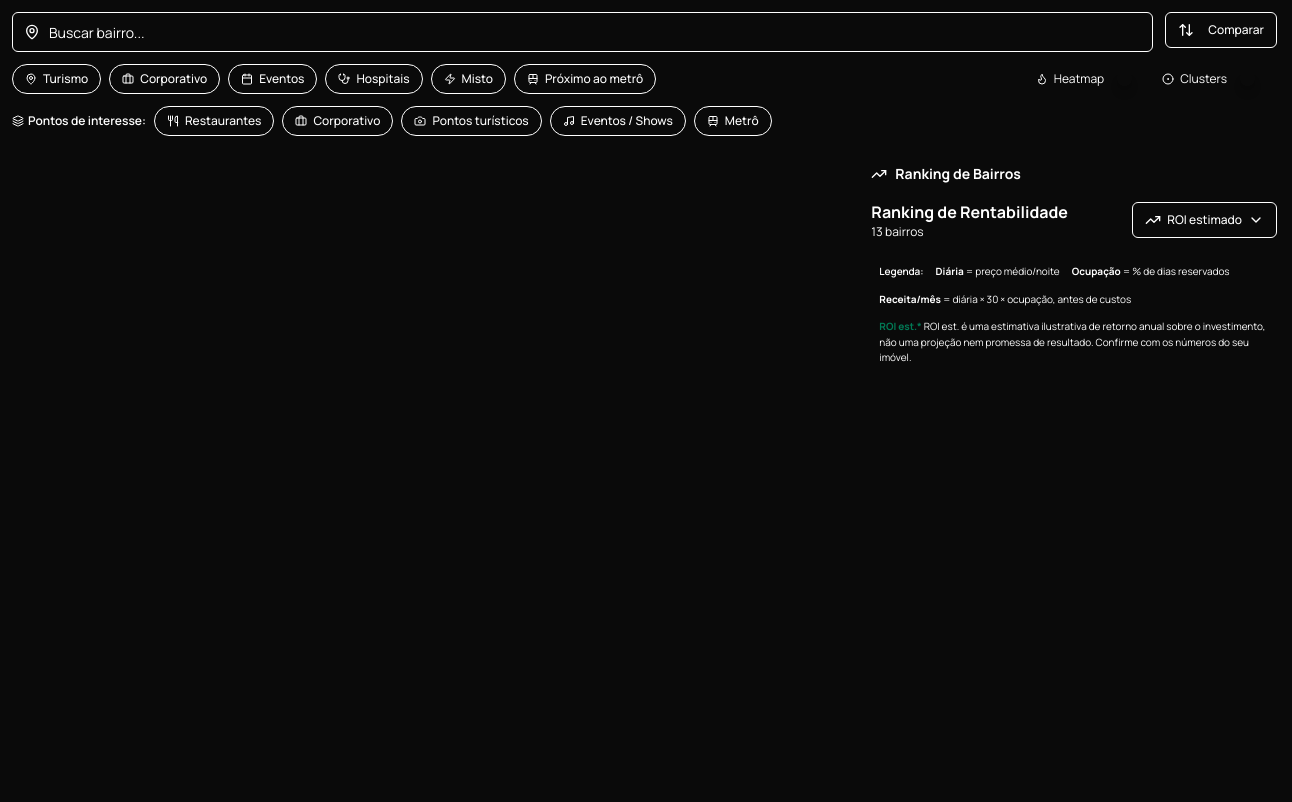
it: MapaBairrosEmbed › filtros de perfil de demanda encontram bairros (antes todo filtro zerava a lista)
Click the button "Turismo" at (57, 79), box top-left (12, 64), bottom-right (101, 94)
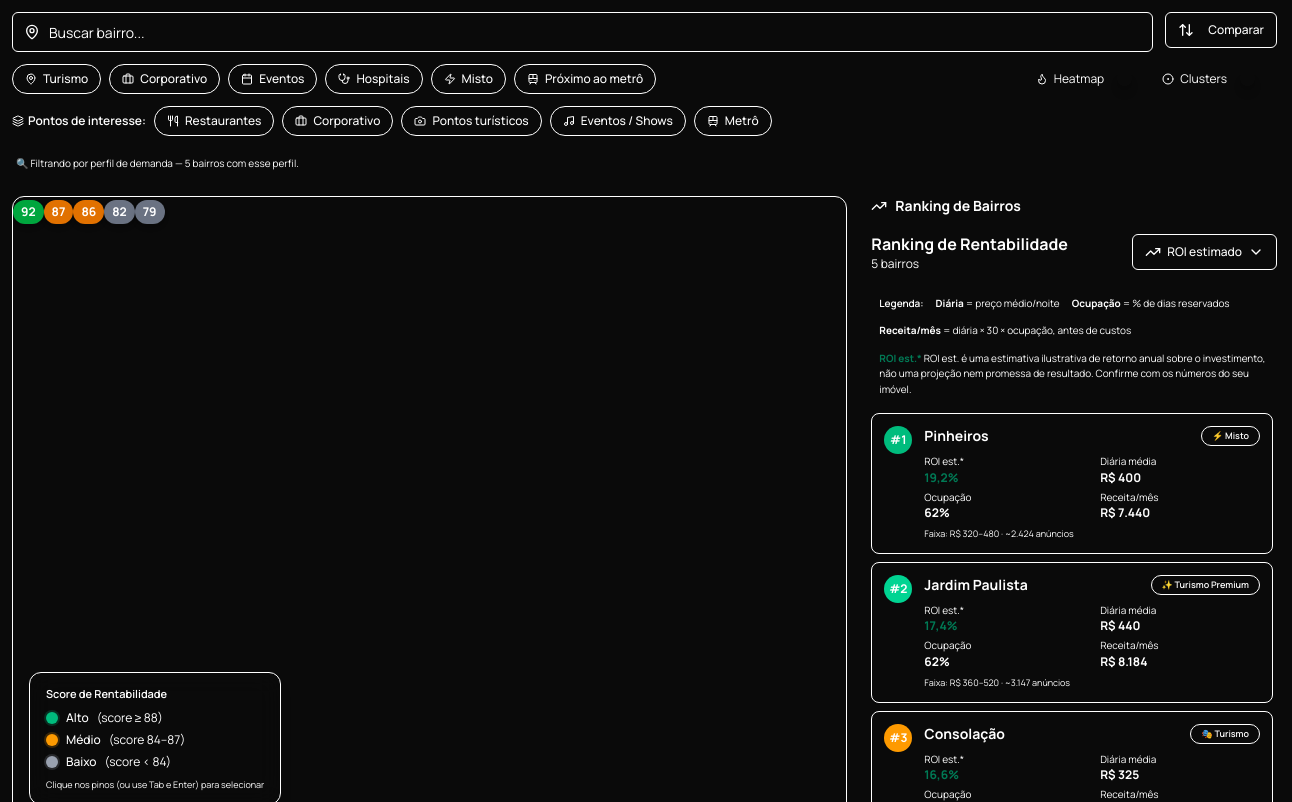
Expected: the text "5 bairros" is shown, top-left (871, 254), bottom-right (919, 272)
